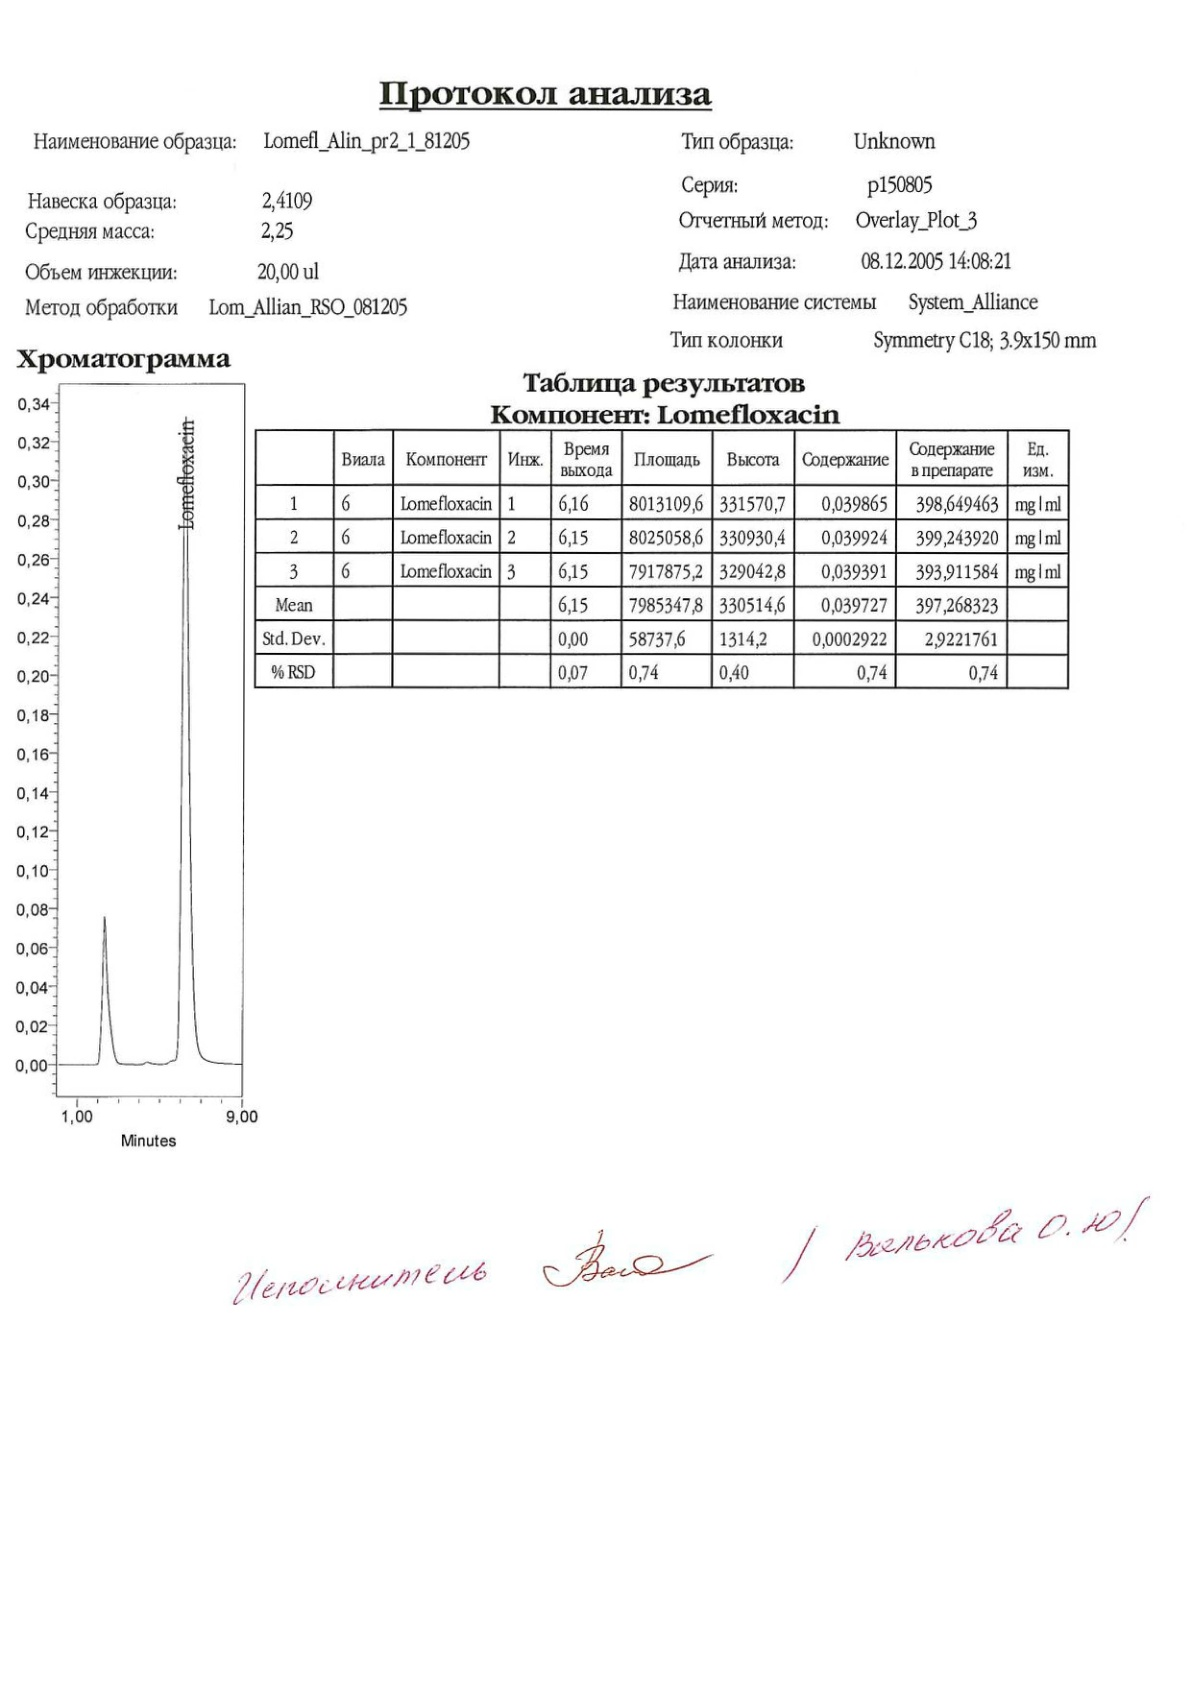full_lined: (253, 428, 1069, 690)
nolines: (21, 129, 1099, 349)
